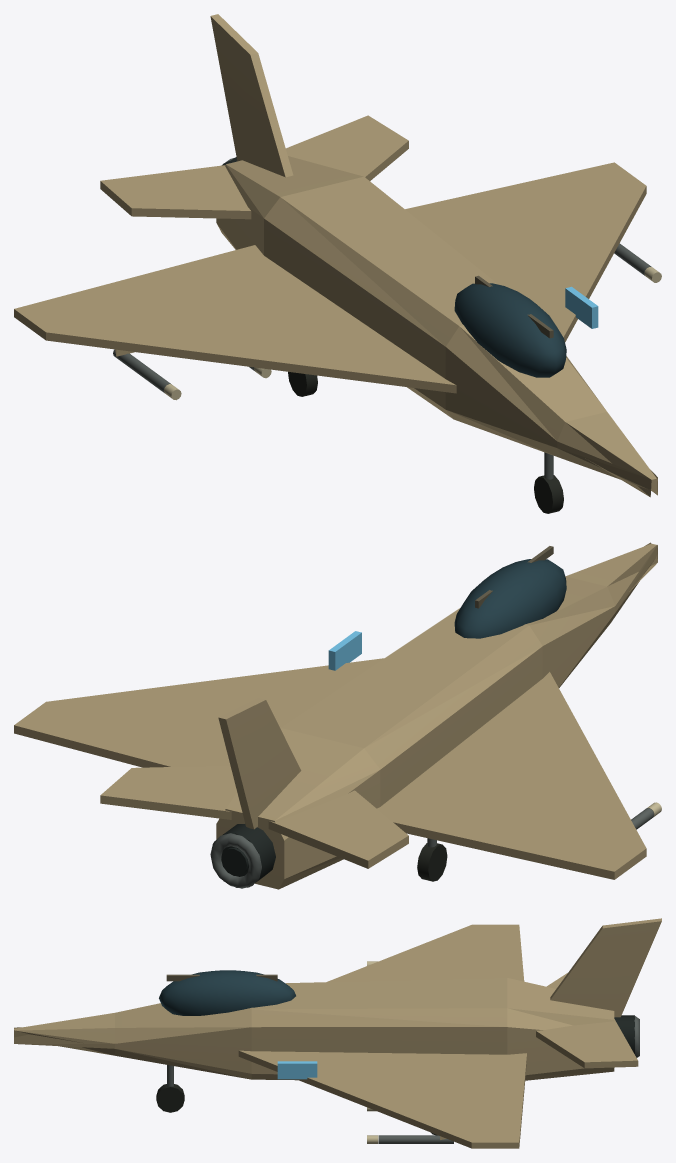
File: fighter.glb
3 views of the same model, one above another, from view 1: azimuth 30°, elevation 25°; view 2: azimuth 150°, elevation 25°; view 3: azimuth 270°, elevation 25° (orthographic). The views are drawn at different scales.
Parts seen in each view (by area): view 1: armor, glass, equipment (×2), marking; view 2: armor, glass, equipment (×2), marking; view 3: armor, glass, equipment (×2), marking.
Boxes of the visible parts, left/top/right/bottom form: armor: left=14, top=14, right=657, bottom=497; glass: left=454, top=283, right=566, bottom=377; equipment (×2): left=113, top=157, right=661, bottom=513; marking: left=565, top=286, right=598, bottom=328; armor: left=14, top=542, right=657, bottom=889; glass: left=454, top=559, right=566, bottom=638; equipment (×2): left=210, top=546, right=661, bottom=888; marking: left=328, top=631, right=361, bottom=670; armor: left=14, top=918, right=661, bottom=1148; glass: left=159, top=970, right=295, bottom=1015; equipment (×2): left=156, top=961, right=639, bottom=1143; marking: left=277, top=1061, right=317, bottom=1079.
Bounding box in the file's own units: 6.5 × 2.64 × 8.17.
